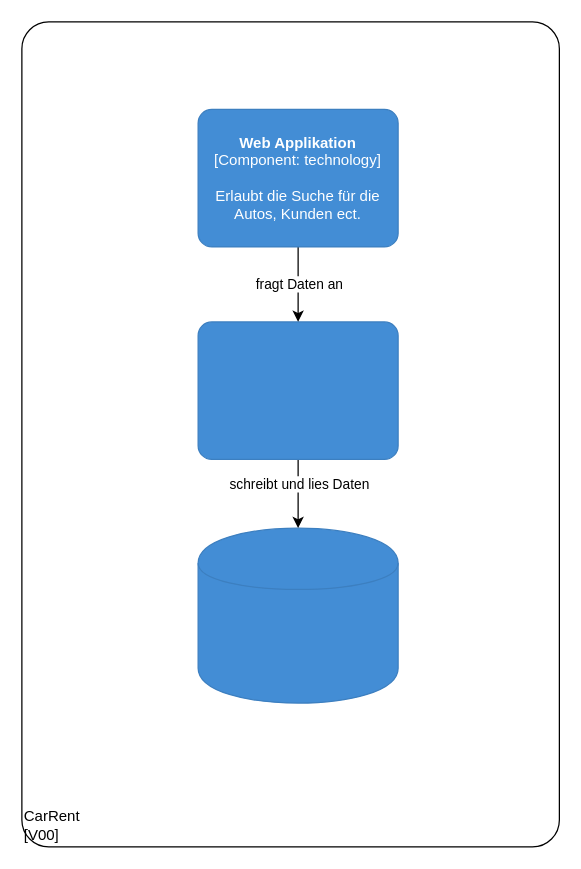
Some shapes in this 581 by 869 pixel diagram are drawn without their labels. Here are the shapes that lost their labels. From the top down, the centre of each, then its label:
At point (297, 390): "Backend [Component: .Net Core Applikation] Verwaltet Daten".
At point (297, 615): "Database [Container: MySQL] Speichert die Daten".
